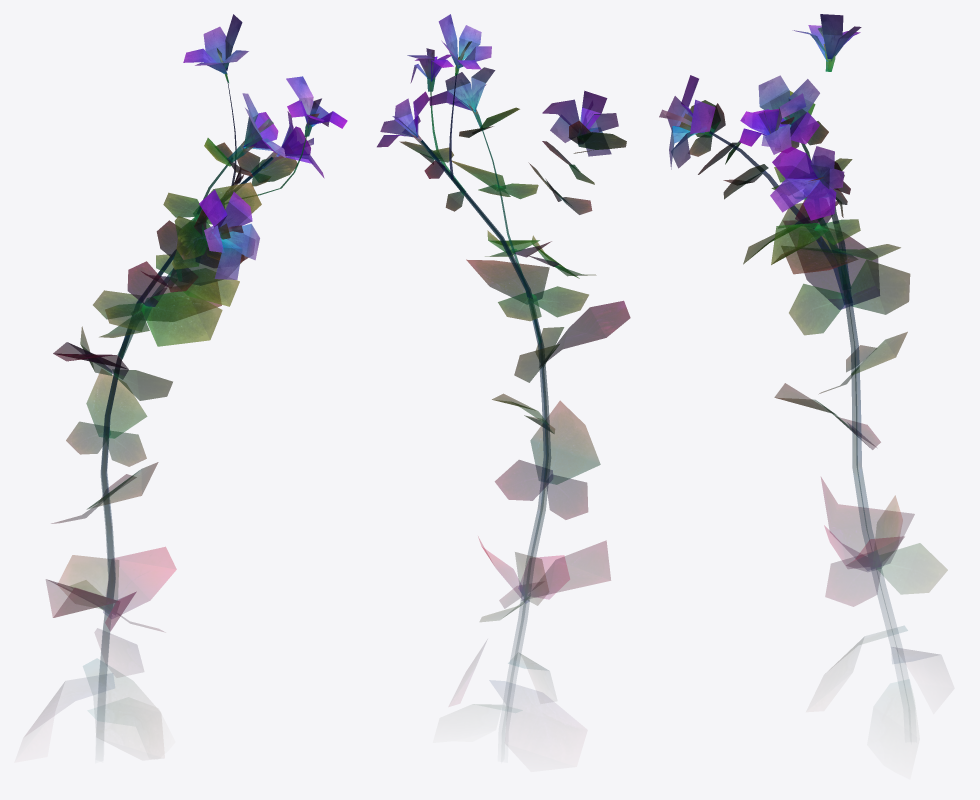
File: periwinkles.glb
The picture shows the model from 3 angles, left to right: view 1: azimuth 30°, elevation 25°; view 2: azimuth 150°, elevation 25°; view 3: azimuth 270°, elevation 25°; orthographic projection. The views are drawn at different scales.
Visible parts, largest first — view 1: SM_tfclbger_VarB_LOD1; view 2: SM_tfclbger_VarB_LOD1; view 3: SM_tfclbger_VarB_LOD1.
Boxes of the visible parts, <box> form: SM_tfclbger_VarB_LOD1: <box>25,14,347,742</box>; SM_tfclbger_VarB_LOD1: <box>377,14,630,740</box>; SM_tfclbger_VarB_LOD1: <box>659,14,947,733</box>.
Bounding box in the file's own units: 0.4547 × 1.3 × 0.4497.
1 material, 1 textured.
